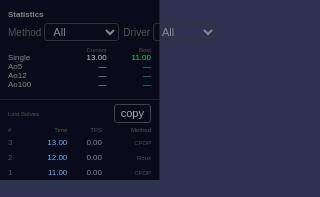
Test: SolveHistorySidebar › hides cfop solves when Roux filter is selected
Select "Roux" in the 1st dropdown: (82, 32) [44, 23, 119, 41]
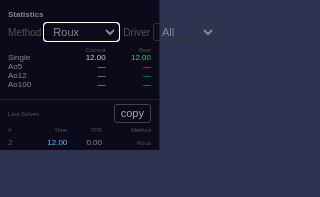
Expected: the text "2" is shown, [0, 135, 30, 150]
Expected: the text "3" is gone
